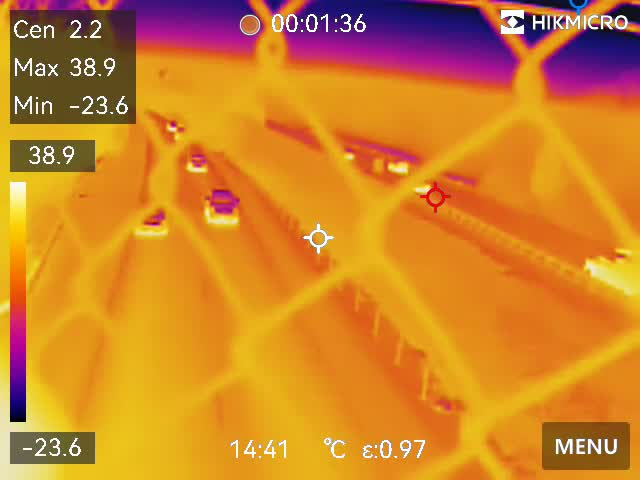vehicle: (582, 245, 640, 296), (207, 182, 242, 228), (129, 204, 172, 239), (388, 159, 416, 178), (339, 147, 356, 162), (173, 124, 189, 138), (165, 118, 180, 131)
